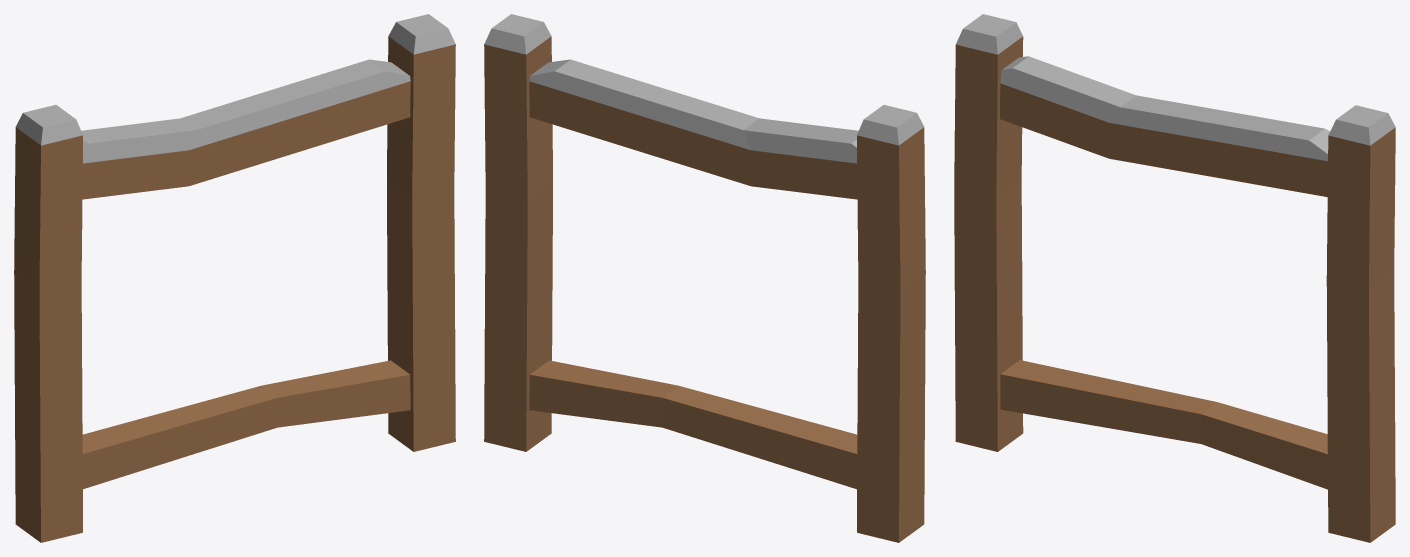
Rendered from Fence_4 Door Winter.fbx.
The picture shows the model from 3 angles, left to right: view 1: azimuth 30°, elevation 25°; view 2: azimuth 150°, elevation 25°; view 3: azimuth 330°, elevation 25°; orthographic projection.
Parts seen in each view (by area): view 1: Fence4DoorWinter_mesh; view 2: Fence4DoorWinter_mesh; view 3: Fence4DoorWinter_mesh.
Boxes of the visible parts, box(x1,y1,x2,y2) form: Fence4DoorWinter_mesh: box(14, 14, 455, 542); Fence4DoorWinter_mesh: box(484, 14, 925, 542); Fence4DoorWinter_mesh: box(954, 14, 1395, 542).
Bounding box in the file's own units: 74.39 × 70.42 × 7.85.
